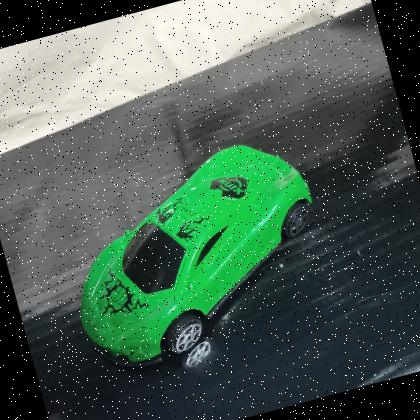Car: (40, 122, 349, 388)
